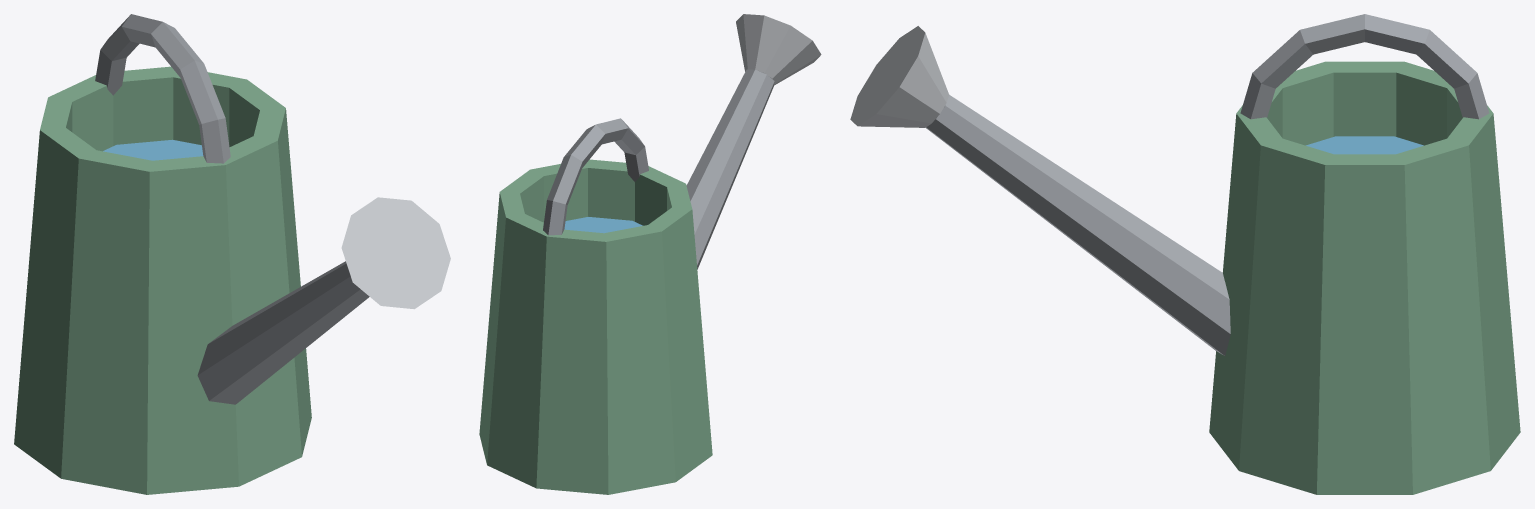
File: Watercan.fbx
3 renders of one model, left to right at view 1: azimuth 30°, elevation 25°; view 2: azimuth 150°, elevation 25°; view 3: azimuth 270°, elevation 25°, orthographic. The views are drawn at different scales.
Visible parts, largest first — view 1: Tool_WateringCan, Can_Water; view 2: Tool_WateringCan, Can_Water; view 3: Tool_WateringCan, Can_Water.
Part boxes in pixels (box(x1,y1,x2,y2)): Tool_WateringCan: box(14, 14, 450, 494); Can_Water: box(103, 139, 203, 160); Tool_WateringCan: box(479, 14, 821, 494); Can_Water: box(564, 217, 642, 233); Tool_WateringCan: box(850, 14, 1520, 494); Can_Water: box(1306, 136, 1423, 154).
Bounding box in the file's own units: 0.2187 × 0.341 × 0.4951.
